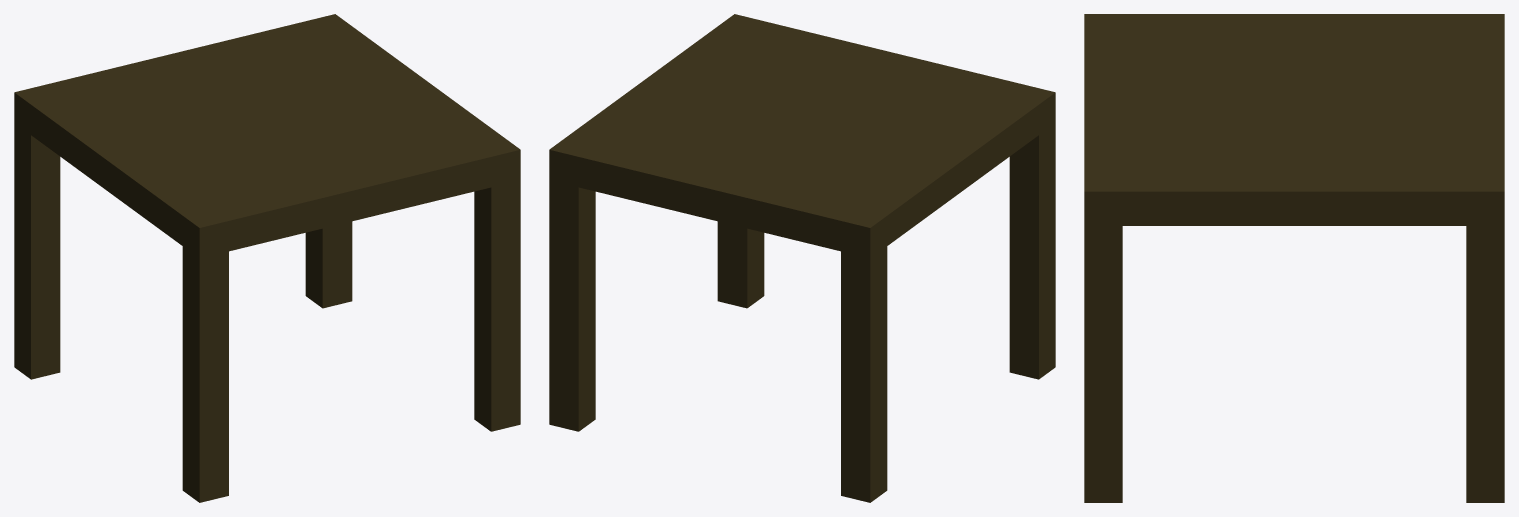
Rendered from table_small.dae.
3 views of the same model, side by side, from view 1: azimuth 30°, elevation 25°; view 2: azimuth 150°, elevation 25°; view 3: azimuth 270°, elevation 25° (orthographic). The views are drawn at different scales.
Parts seen in each view (by area): view 1: IKEA_low_table_LACK_1; view 2: IKEA_low_table_LACK_1; view 3: IKEA_low_table_LACK_1.
Boxes of the visible parts, x1=… form: IKEA_low_table_LACK_1: x1=14, y1=14, x2=520, y2=502; IKEA_low_table_LACK_1: x1=549, y1=14, x2=1055, y2=502; IKEA_low_table_LACK_1: x1=1084, y1=14, x2=1504, y2=502.
Bounding box in the file's own units: 0.55 × 0.55 × 0.45.
